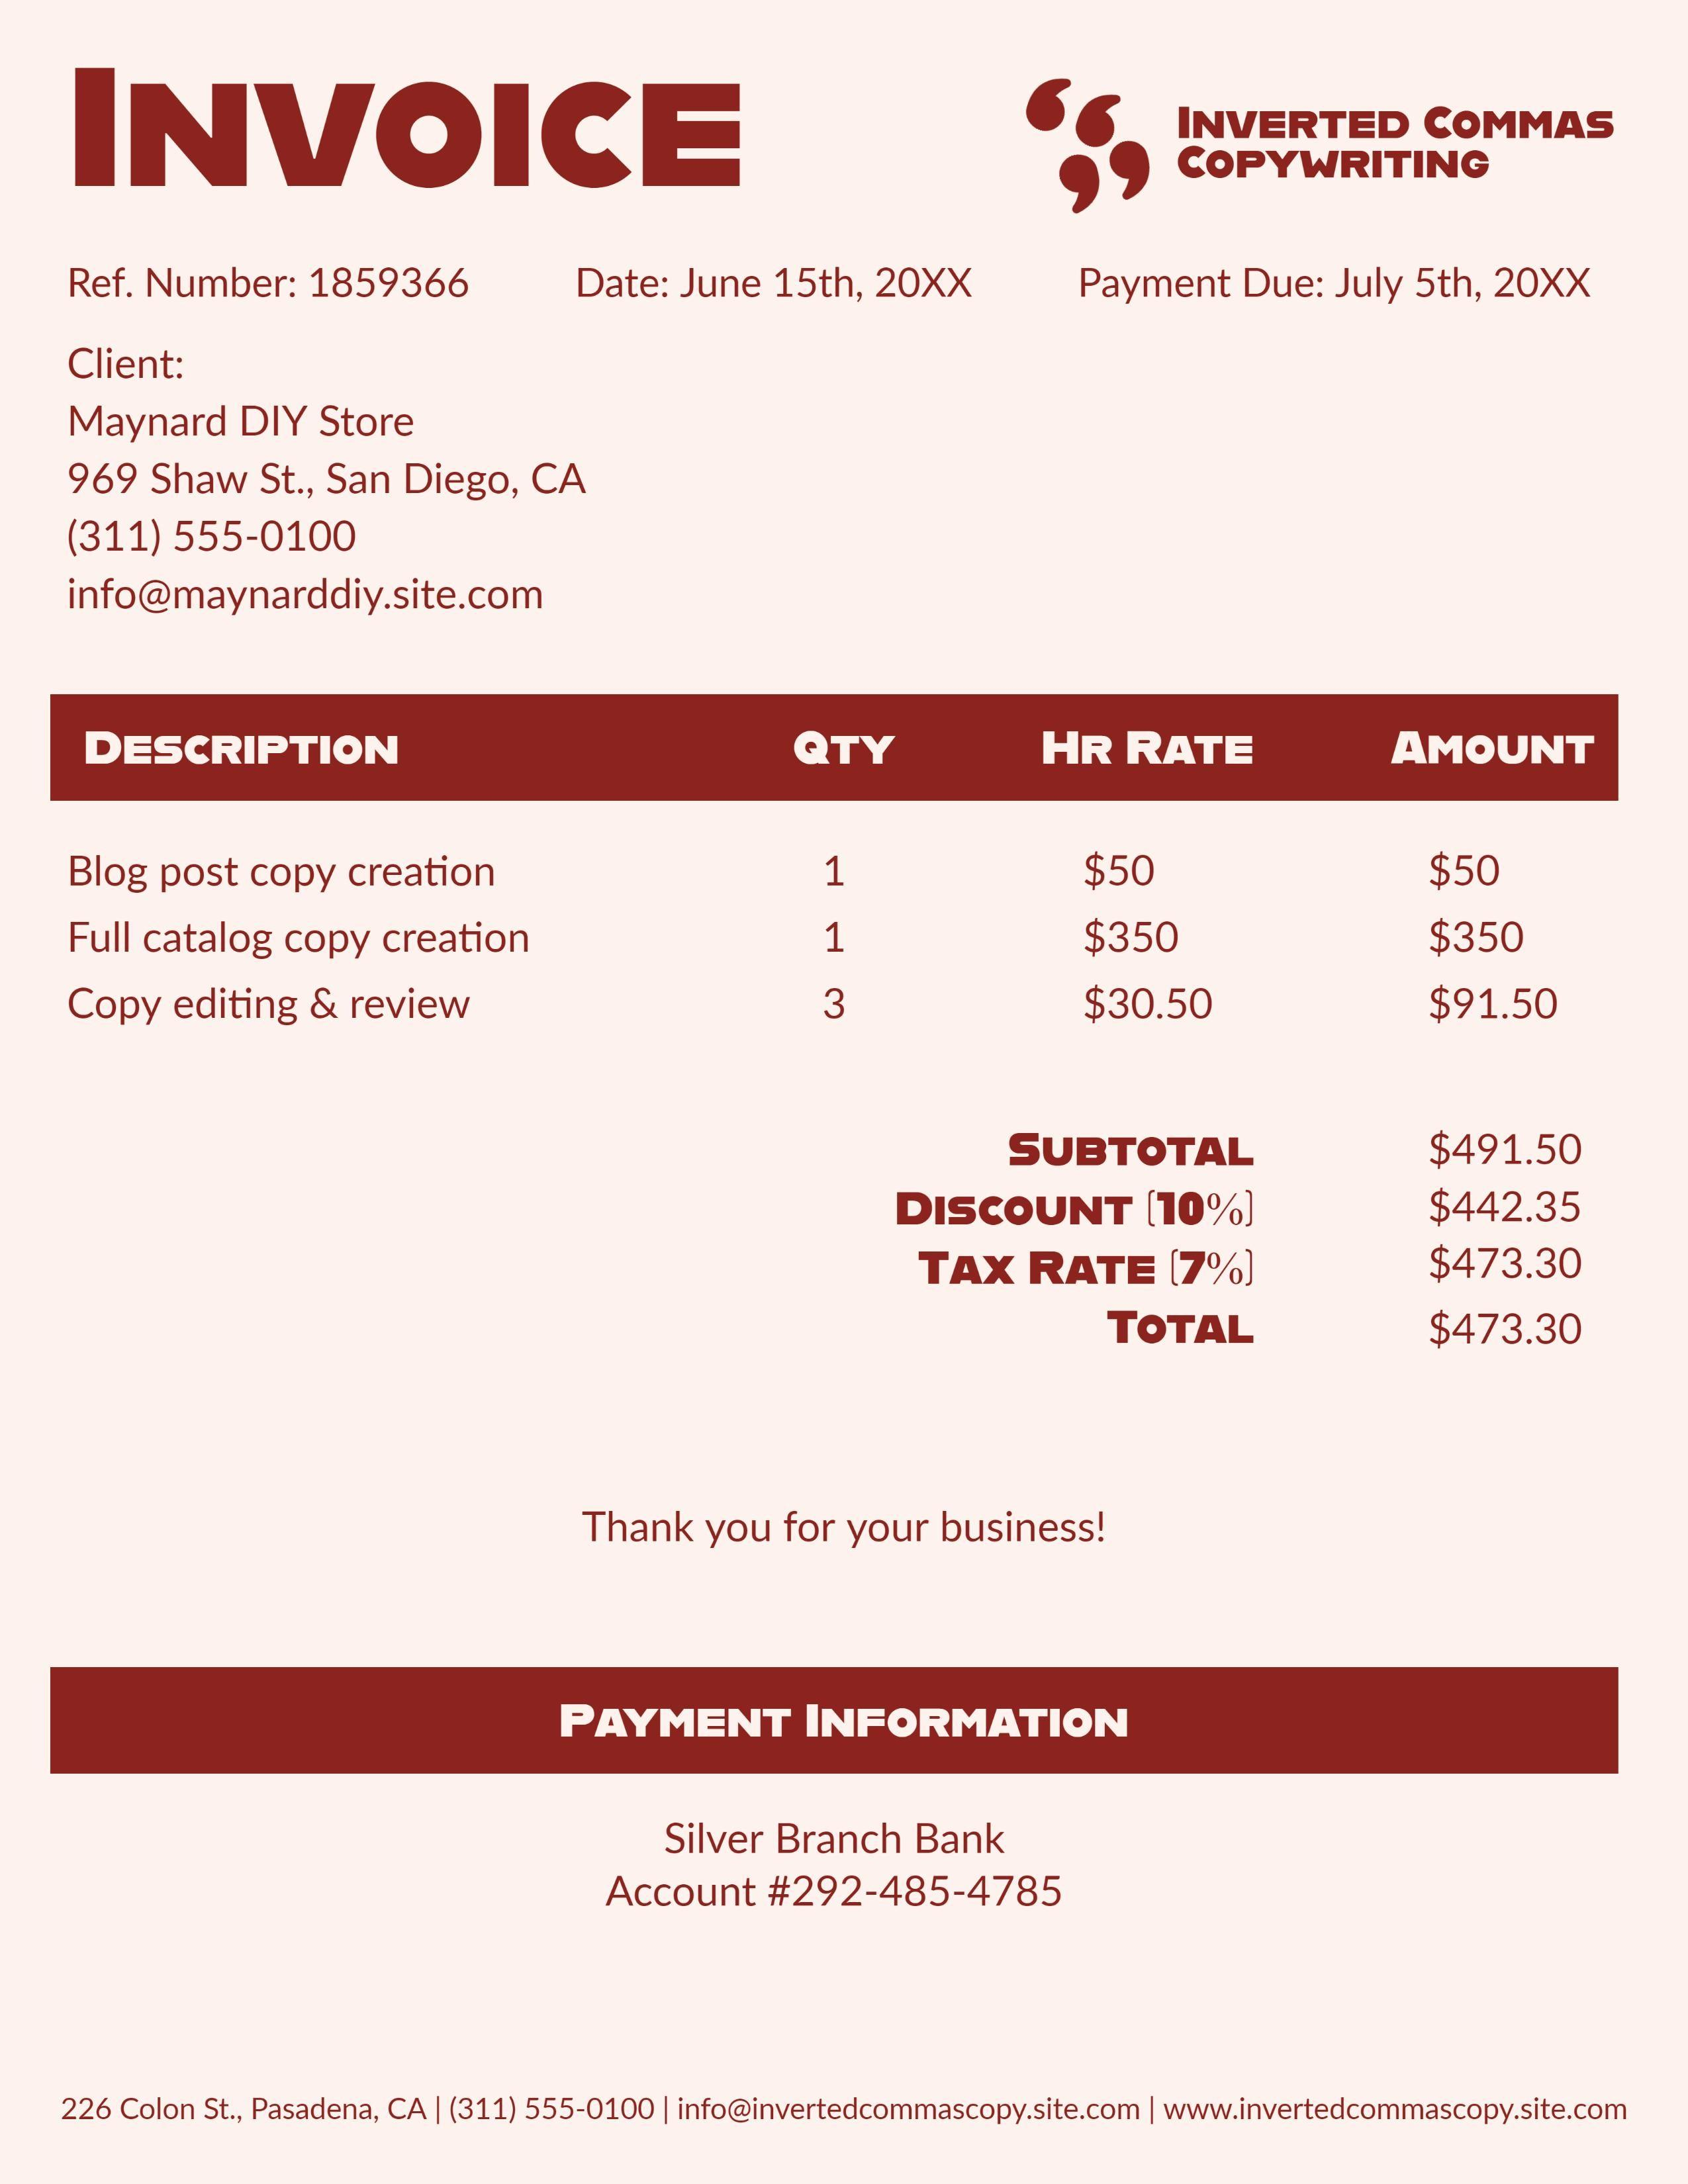ROI: (43, 693, 1621, 1042), (890, 1120, 1594, 1361), (62, 342, 605, 615), (544, 1693, 1137, 1927), (62, 255, 1635, 310), (1176, 83, 1624, 197)
